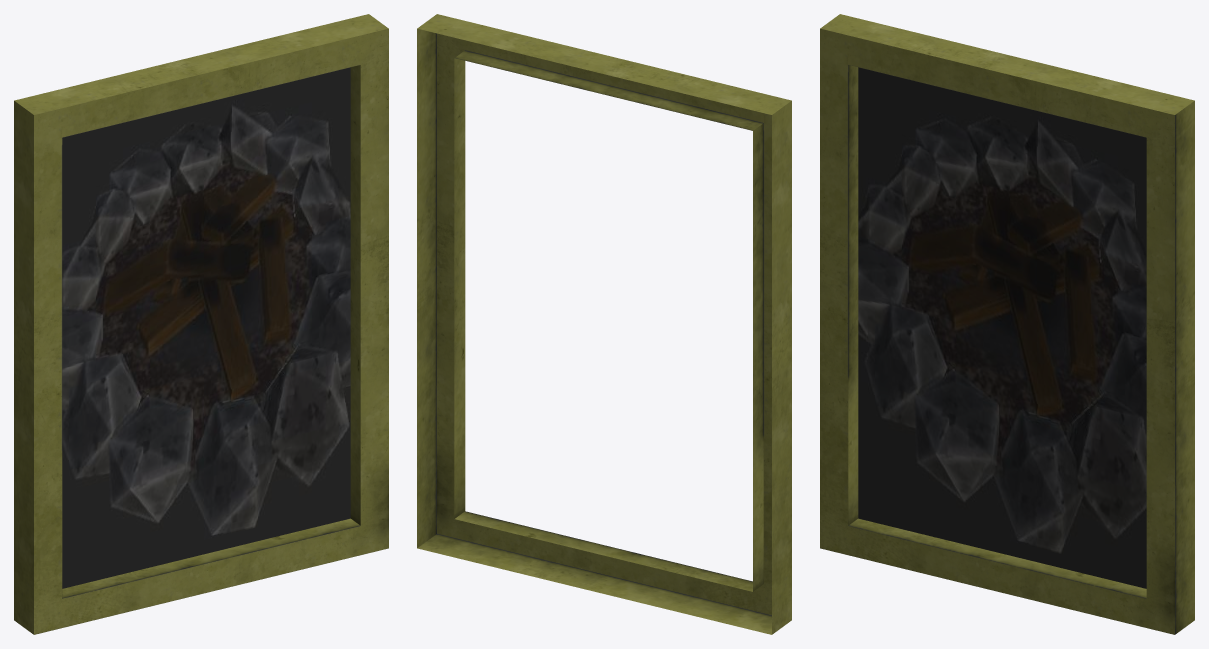
The model's file is Cuadro3.fbx.
The picture shows the model from 3 angles, left to right: view 1: azimuth 30°, elevation 25°; view 2: azimuth 150°, elevation 25°; view 3: azimuth 330°, elevation 25°; orthographic projection.
Parts seen in each view (by area): view 1: Plane, marco; view 2: marco; view 3: Plane, marco.
Boxes of the visible parts, x1,y1,x2,y2 form: Plane: (62, 67, 350, 588); marco: (14, 14, 388, 634); marco: (417, 14, 791, 634); Plane: (858, 67, 1146, 588); marco: (820, 14, 1194, 634).
Bounding box in the file's own units: 80 × 112 × 7.79.
